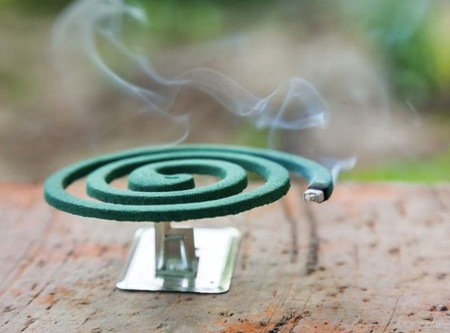Open-Flame-Hazard: (42, 136, 346, 310)
